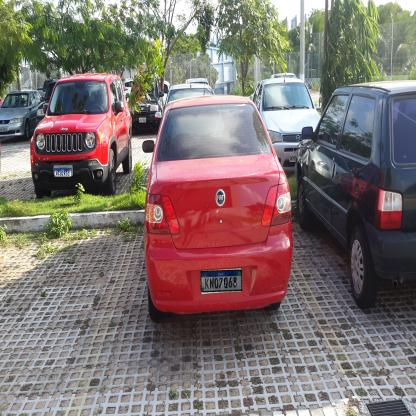PlacaM: (201, 270, 242, 292), (54, 168, 72, 177)
